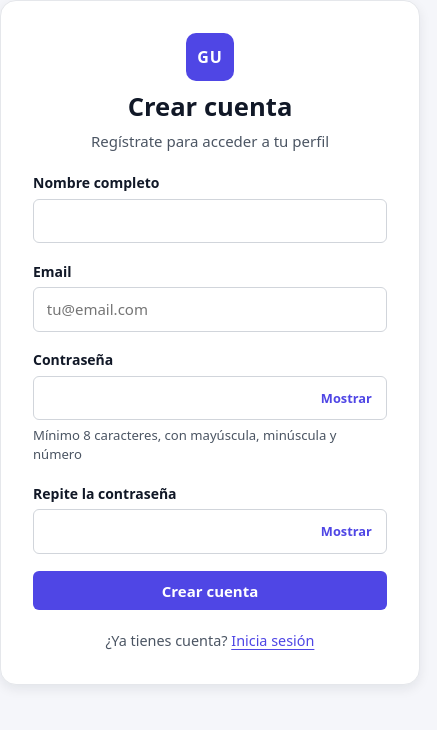
Test: RegisterView › muestra los errores por campo que devuelve la API
Step 1. Type "Nueva Persona" into the field with test id "register-name" → (210, 221), box top-left (33, 199), bottom-right (387, 243)
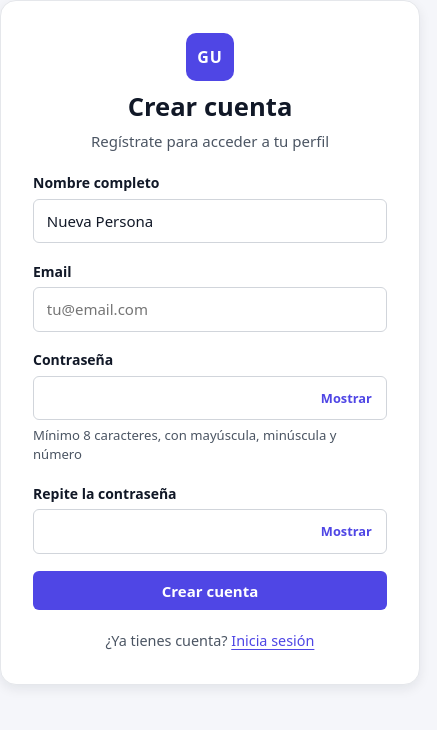
Step 2. Type "nueva@demo.com" into the field with test id "register-email" → (210, 310), box top-left (33, 287), bottom-right (387, 332)
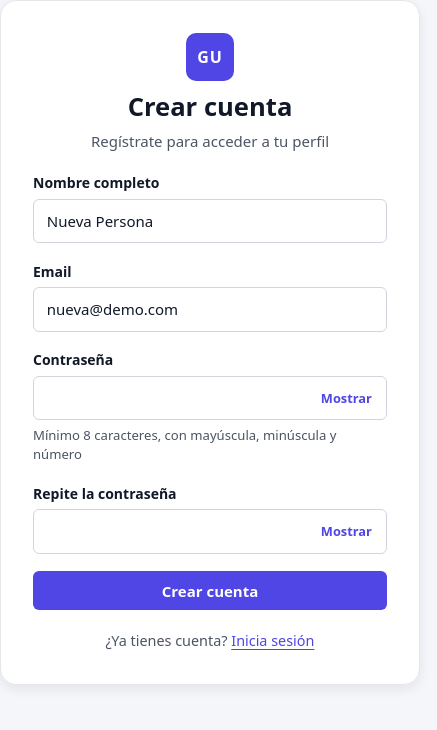
Step 3. Type "Password123" into the password field with test id "register-password" → (210, 398), box top-left (33, 376), bottom-right (387, 420)
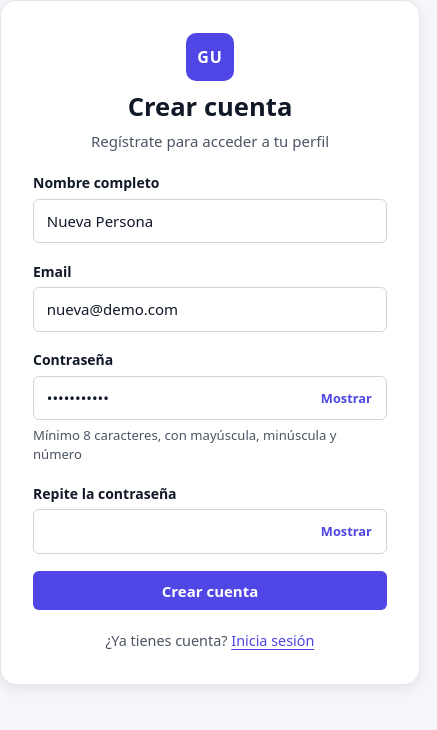
Step 4. Type "Password123" into the password field with test id "register-confirmation" → (210, 531), box top-left (33, 509), bottom-right (387, 554)
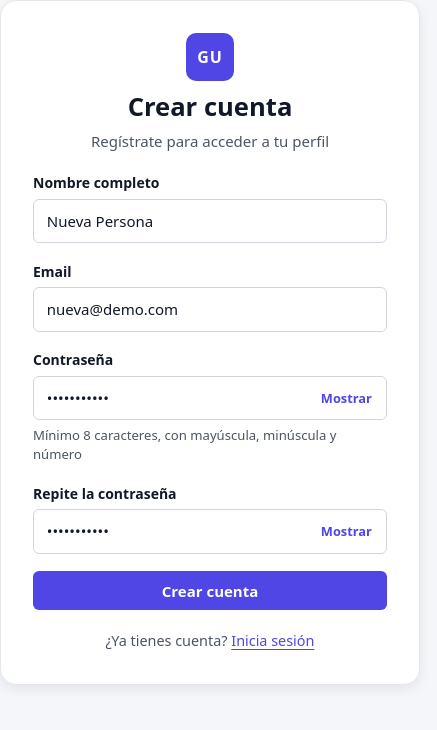
Step 5. Submit the form with test id "register-form", box top-left (33, 172), bottom-right (387, 610)
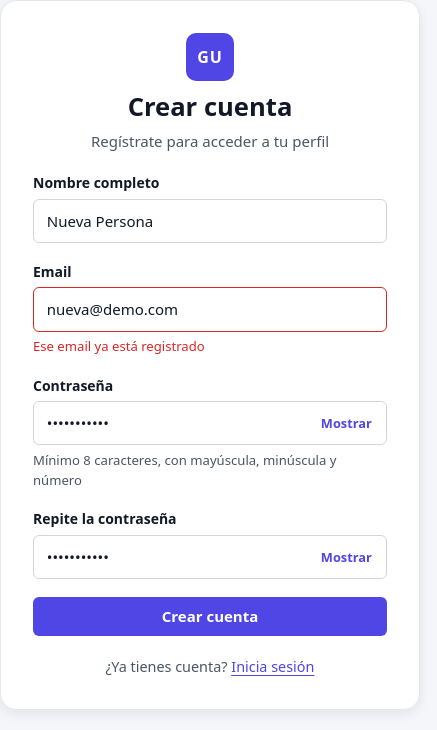
Result: the text with test id "register-email-error" reads "Ese email ya está registrado" at top-left (33, 337), bottom-right (205, 355)
